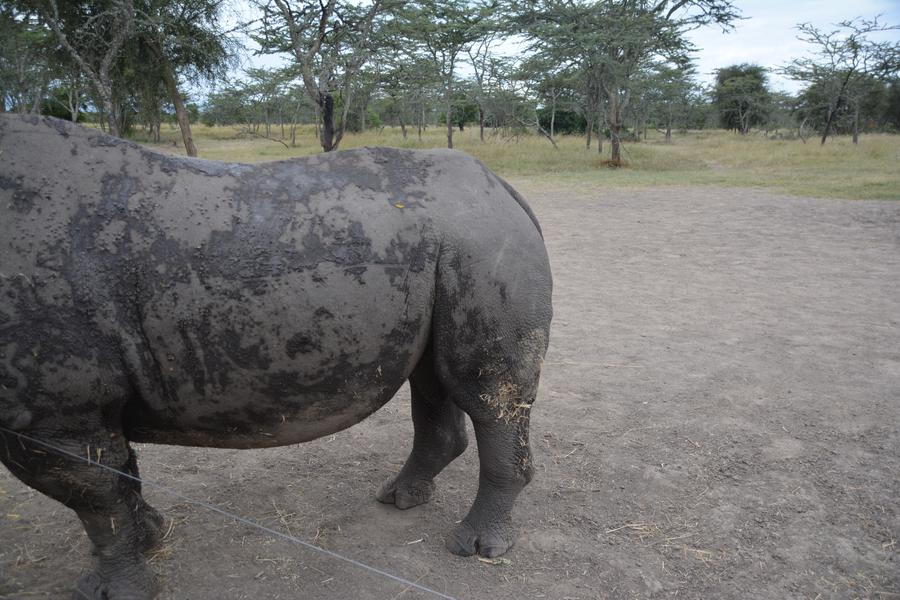rhino: (9, 111, 546, 549)
